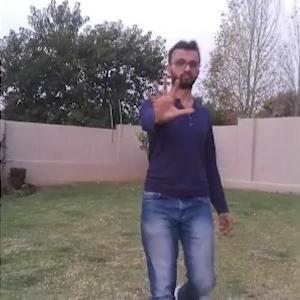follow_hand: (142, 71, 196, 125)
